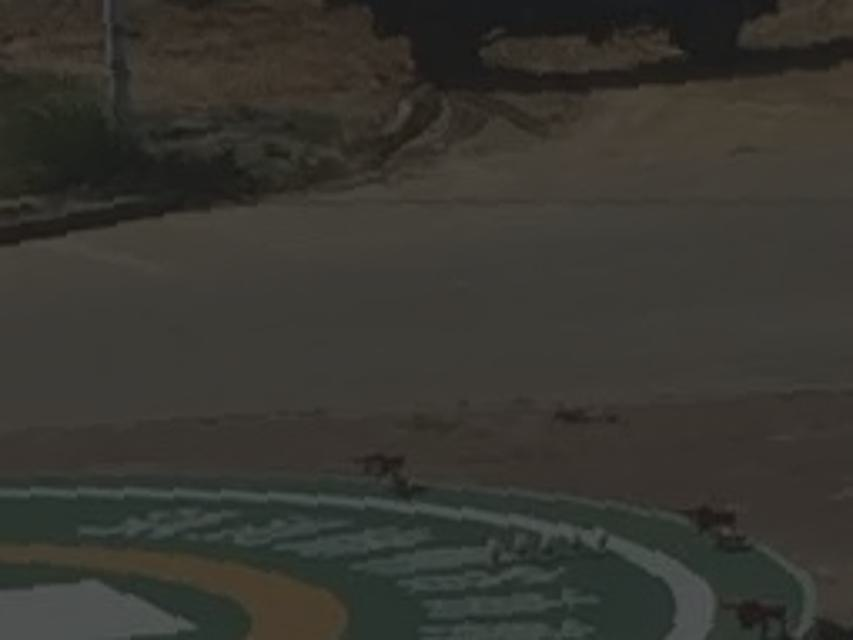Apron: (4, 523, 393, 636)
